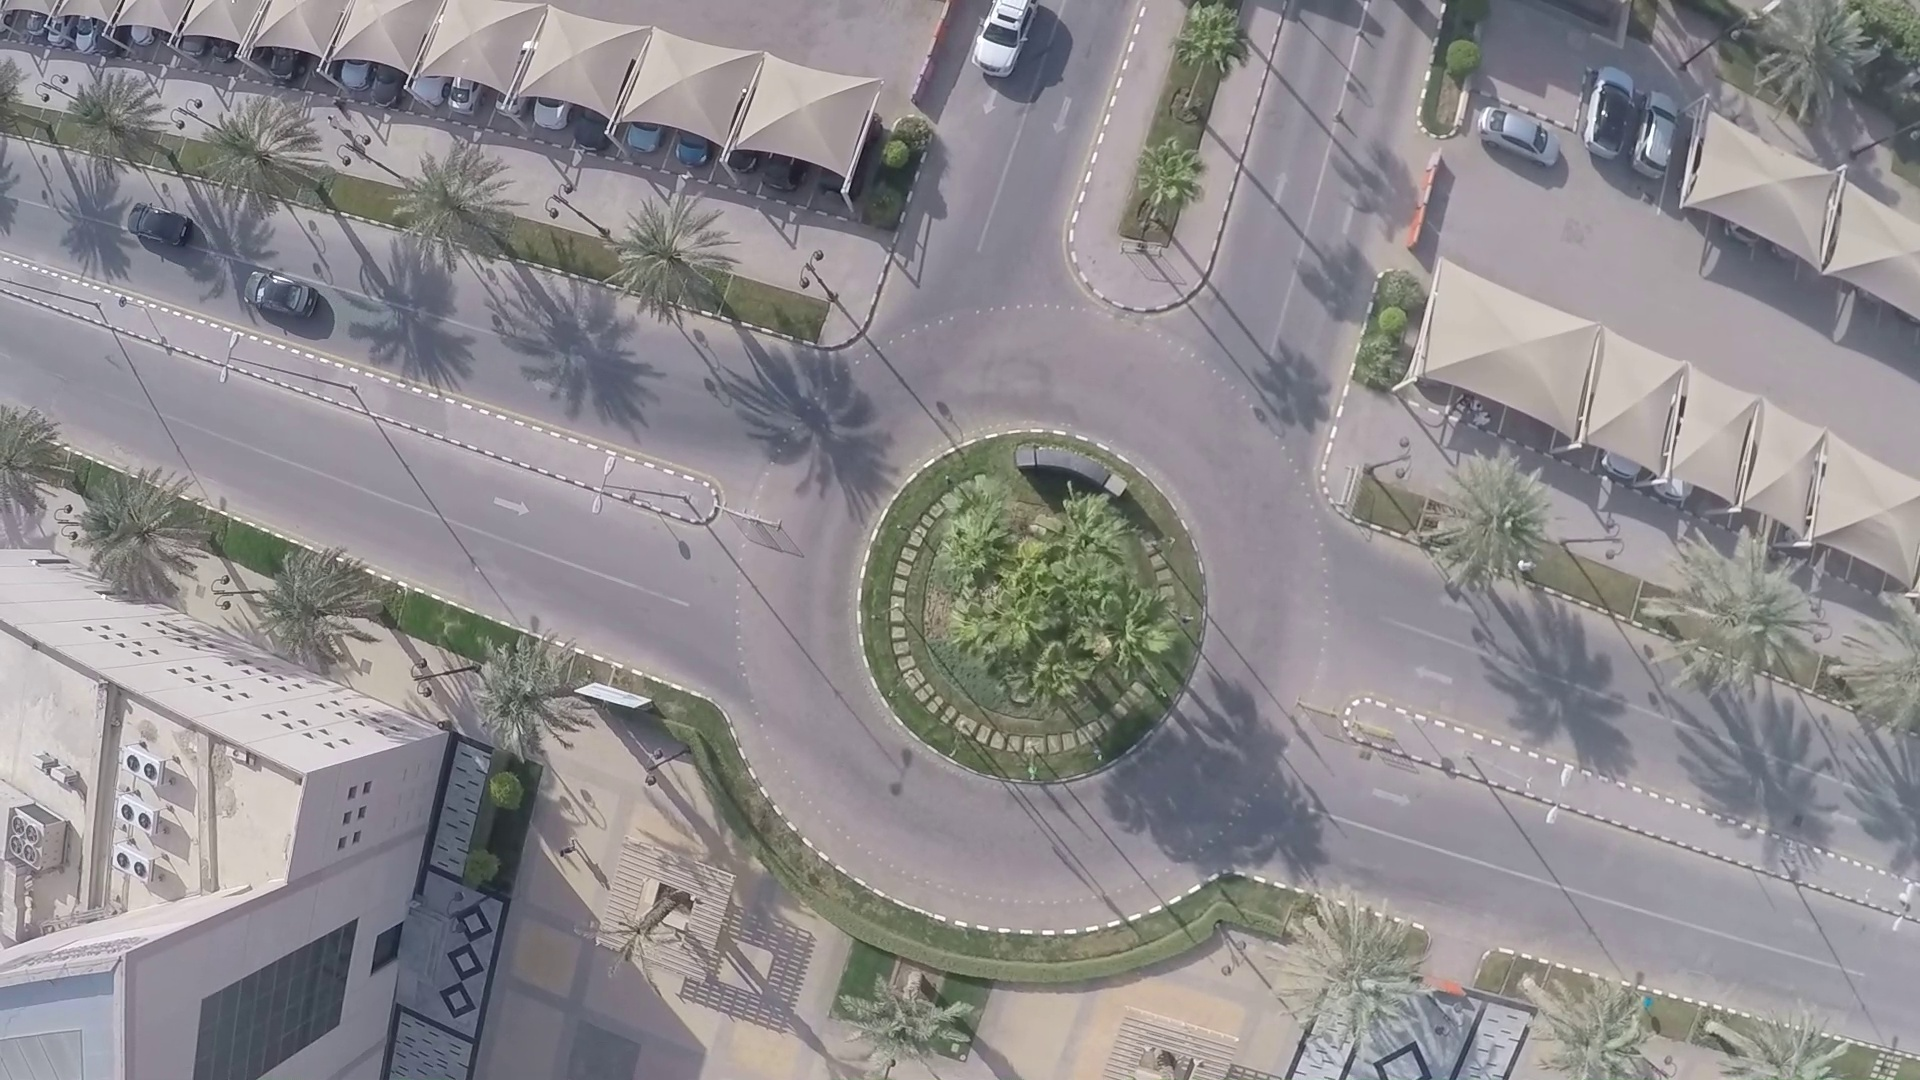car: (239, 272, 342, 316), (111, 191, 194, 247), (968, 1, 1018, 83)
